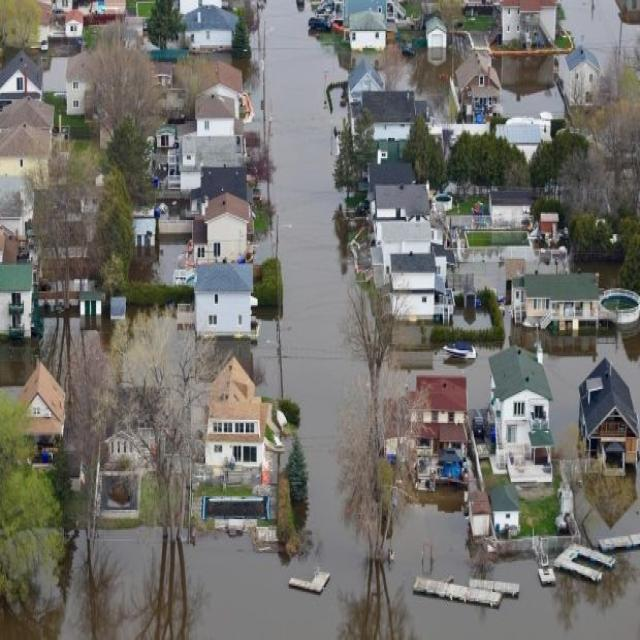flooded_areas: (302, 0, 638, 638), (13, 1, 324, 638)
